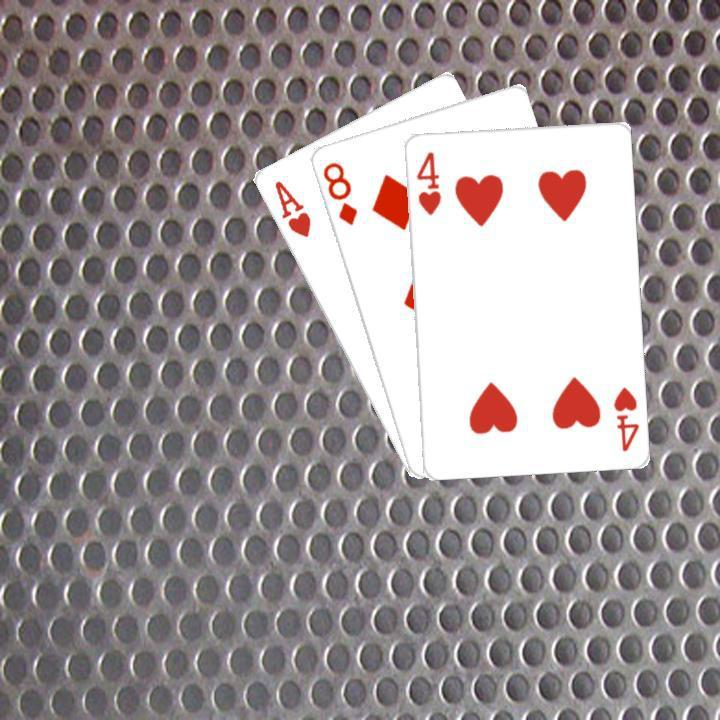4: (411, 147, 443, 216), (609, 382, 640, 453)
8: (318, 157, 359, 228)
A: (269, 176, 313, 240)
